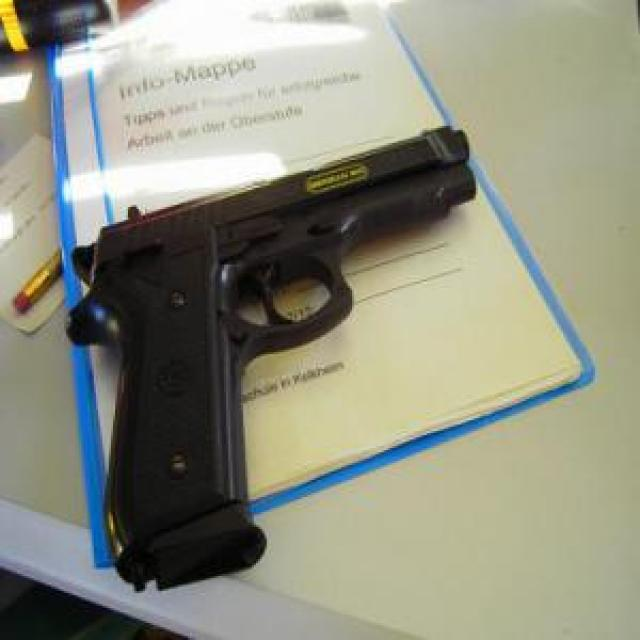pistol: (64, 122, 478, 595)
